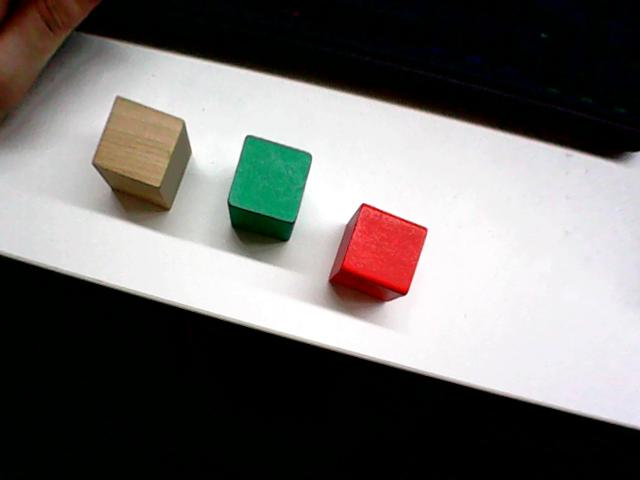green_box: (223, 129, 315, 244)
raw_box: (88, 84, 198, 217)
red_box: (330, 198, 430, 305)
